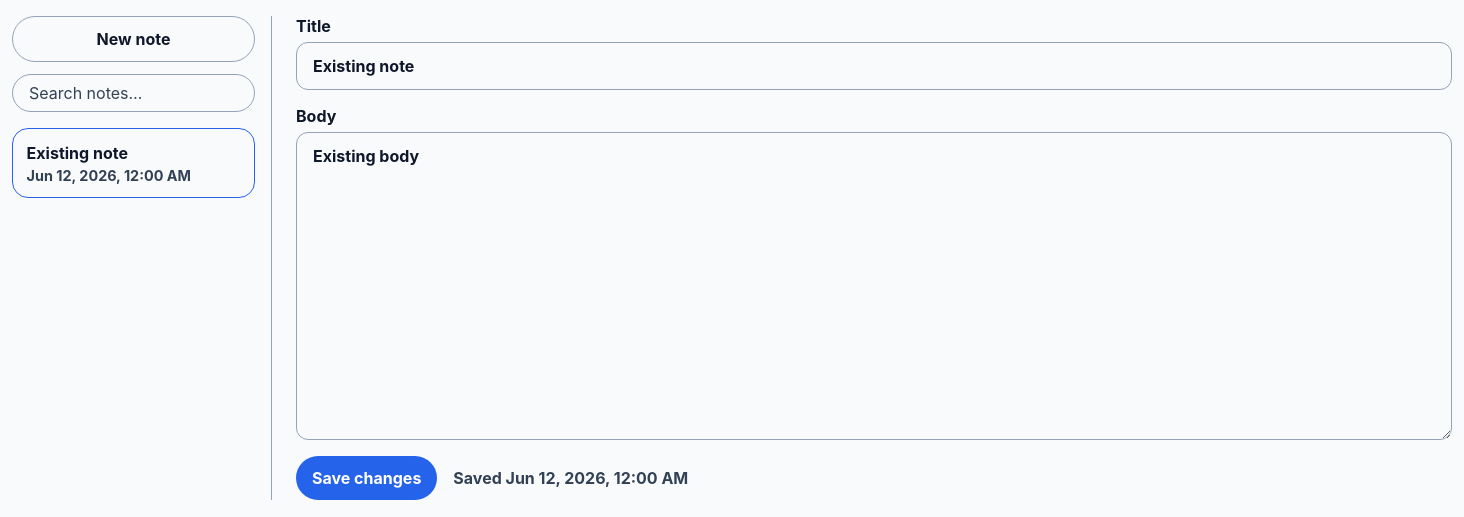
Test case: NoteEditor › unsaved changes guard › shows dirty indicator when edits are made
Type " extra" into the field labelled "Title" at (874, 66), box [296, 42, 1452, 90]
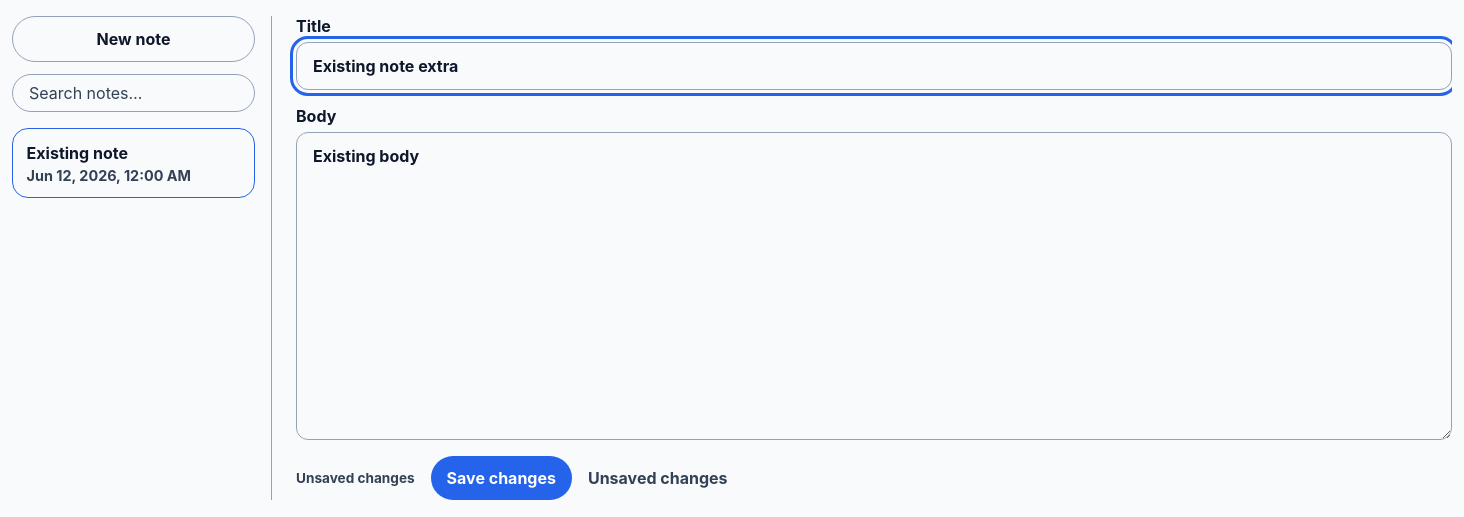
Check: the text with class "dirty-indicator" reads "Unsaved changes", box [296, 470, 415, 486]
